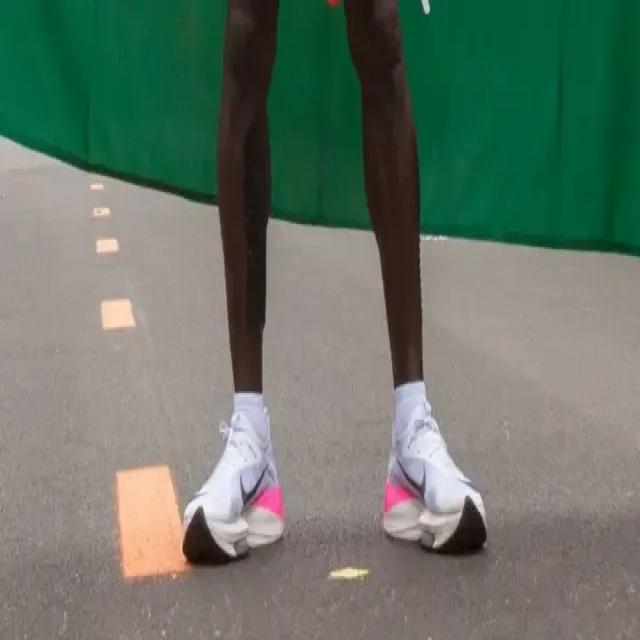nike: (392, 450, 439, 503), (229, 462, 273, 510)
